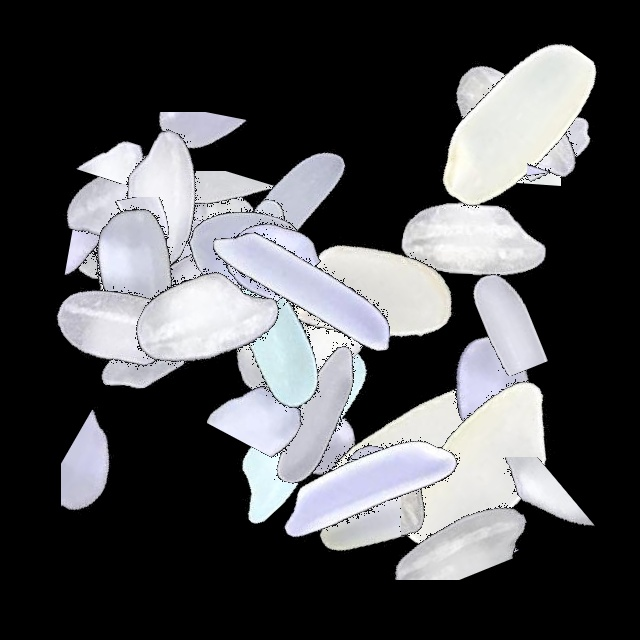Broken: (189, 242, 351, 492), (370, 217, 620, 376), (85, 133, 335, 285), (119, 158, 369, 305), (317, 434, 567, 580), (207, 257, 342, 507), (506, 0, 640, 250), (61, 356, 194, 606), (74, 112, 324, 234), (91, 171, 341, 292), (384, 457, 634, 575), (1, 193, 251, 305), (450, 1, 561, 251), (401, 365, 512, 615), (365, 390, 475, 640), (409, 390, 519, 640), (17, 197, 267, 302), (5, 83, 255, 184), (527, 0, 614, 250), (306, 297, 382, 547)
Full: (4, 106, 254, 356), (176, 314, 426, 564), (114, 125, 364, 375), (21, 125, 271, 375), (52, 112, 302, 362), (171, 305, 421, 555), (144, 207, 394, 457), (295, 327, 545, 577), (371, 271, 621, 521), (275, 366, 525, 616), (199, 215, 449, 465), (37, 216, 287, 466), (0, 70, 250, 320), (390, 0, 640, 250), (324, 390, 574, 640), (347, 112, 597, 362), (85, 160, 335, 410), (191, 290, 441, 540), (287, 390, 537, 640), (238, 176, 488, 426), (358, 343, 608, 593), (164, 81, 414, 331), (35, 75, 285, 325), (138, 148, 388, 398), (244, 367, 494, 617), (10, 137, 260, 387), (0, 199, 250, 449), (79, 198, 329, 448), (178, 169, 428, 419)
